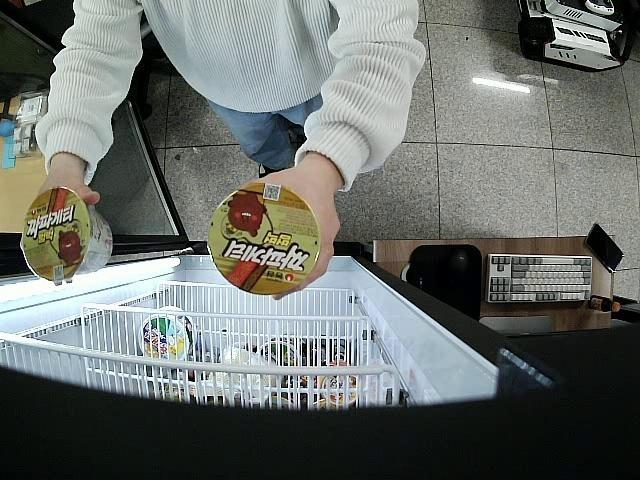04_chapagetti_S: (208, 184, 319, 294), (22, 186, 112, 282)
